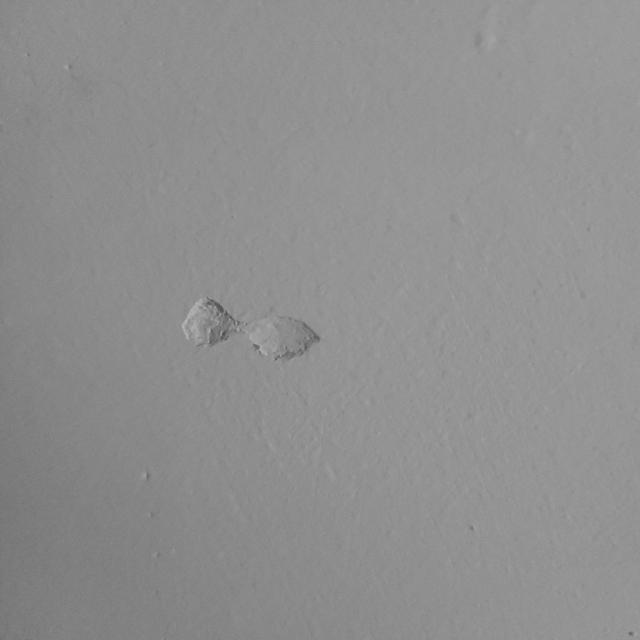rough and patchy surface: (16, 455, 631, 624), (354, 238, 624, 426), (162, 17, 345, 260), (166, 276, 331, 411), (422, 176, 503, 230), (51, 53, 90, 81)
